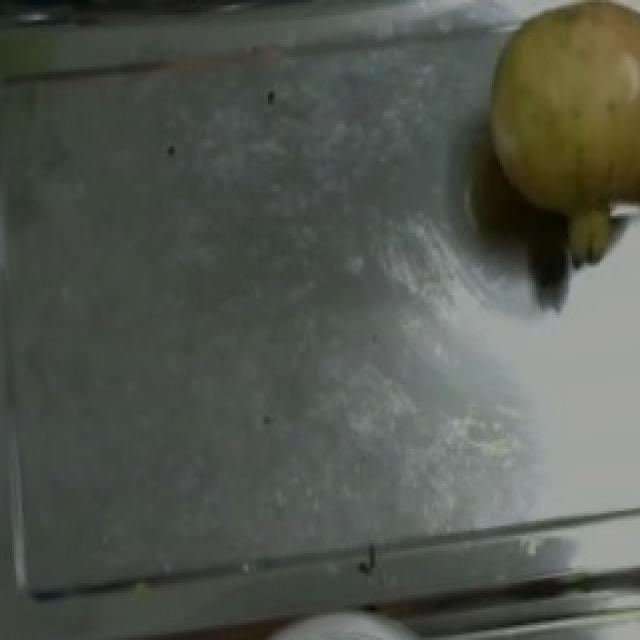fruit: (458, 0, 640, 256)
